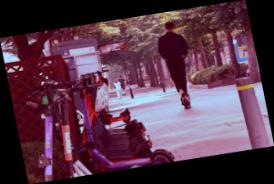nonhelmet: (152, 19, 202, 112)
